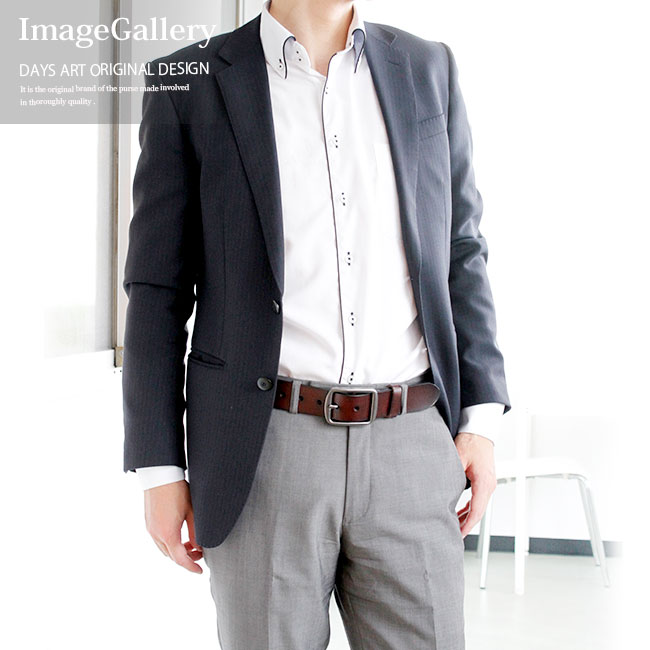F_M_suit jacket: (107, 17, 507, 514)
F_belt: (253, 373, 451, 432)
F_dress pants: (209, 371, 463, 641)
